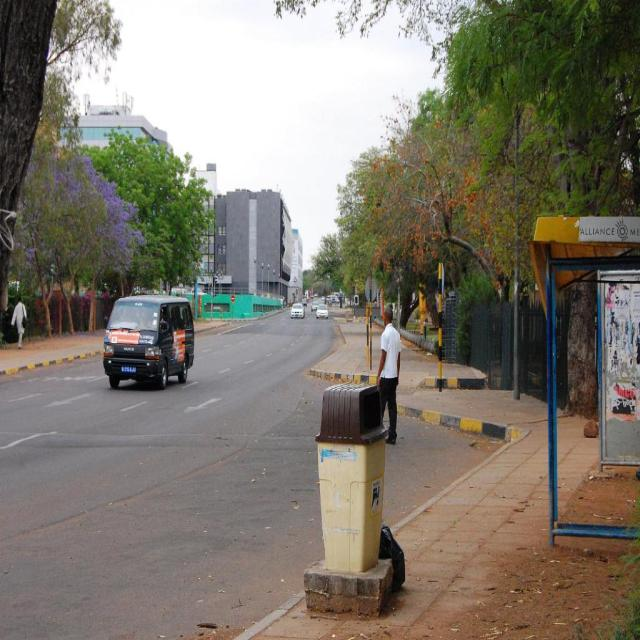car: (289, 301, 304, 316), (316, 302, 327, 319), (300, 299, 306, 306)
